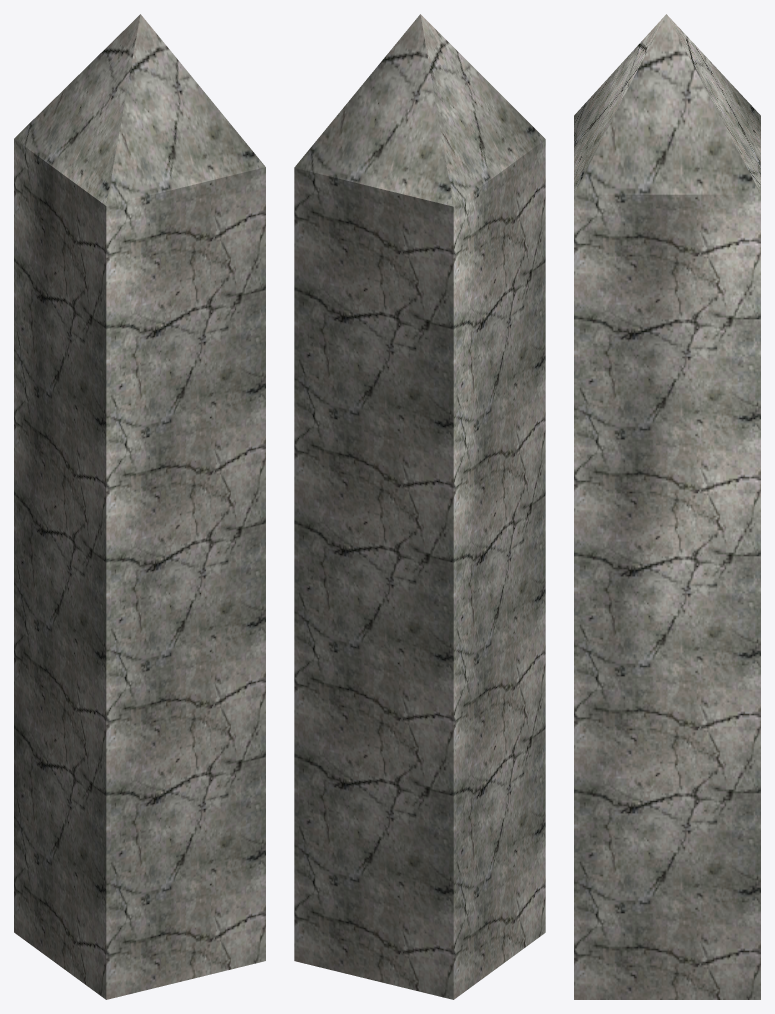
Rendered from ARKENSTONE_OBLISK_STATE01.fbx.
The picture shows the model from 3 angles, left to right: view 1: azimuth 30°, elevation 25°; view 2: azimuth 150°, elevation 25°; view 3: azimuth 270°, elevation 25°; orthographic projection.
Visible parts, largest first — view 1: ARKENSTONE_OBLISK_STATE01; view 2: ARKENSTONE_OBLISK_STATE01; view 3: ARKENSTONE_OBLISK_STATE01.
Boxes of the visible parts, x1,y1,x2,y2 form: ARKENSTONE_OBLISK_STATE01: (14,14,265,999); ARKENSTONE_OBLISK_STATE01: (294,14,545,999); ARKENSTONE_OBLISK_STATE01: (574,14,760,999).
Size of the model in its own units: 12000 by 67020 by 12000.
2 materials, 2 textured.
